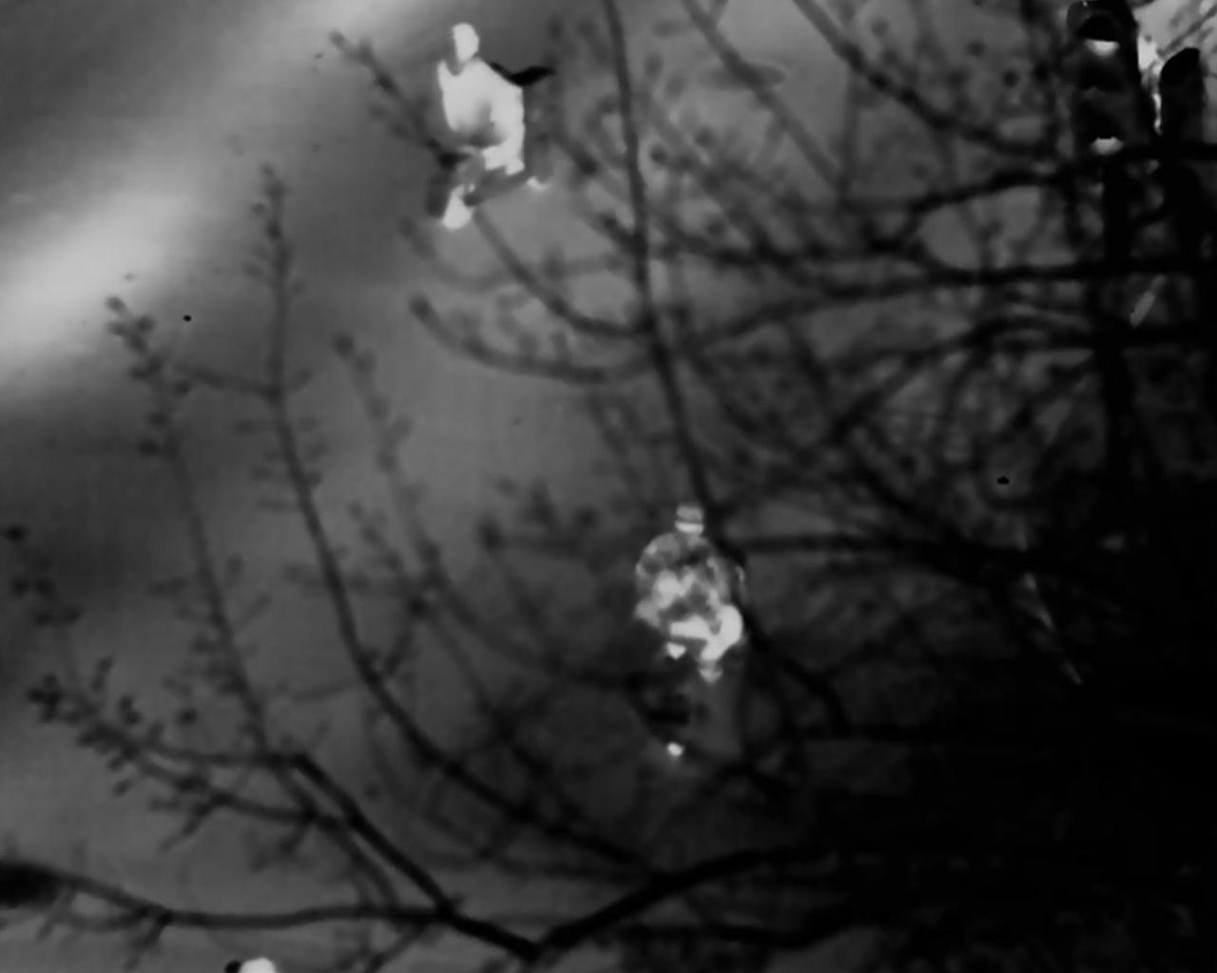person: (634, 503, 763, 695), (435, 22, 528, 224)
